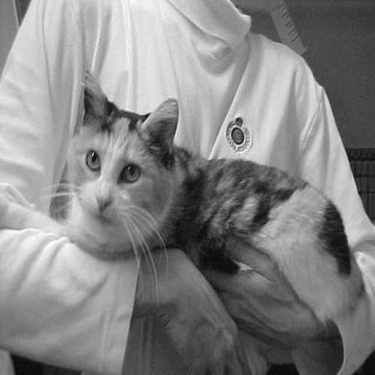cat: (18, 64, 362, 353)
